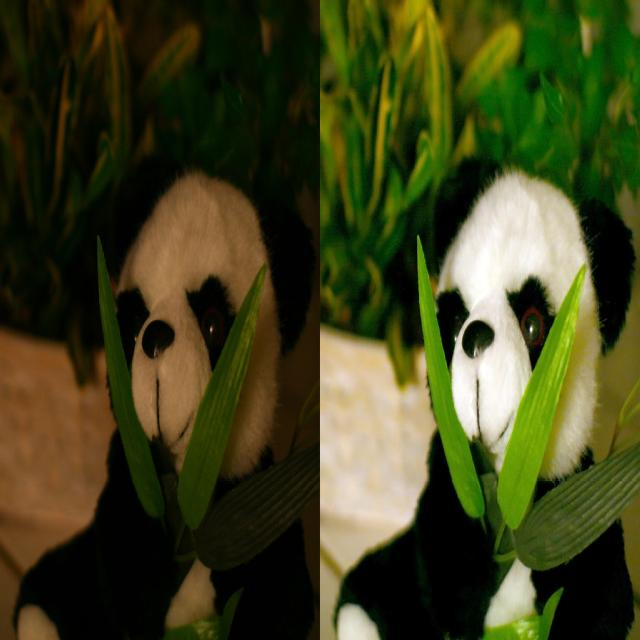panda: (330, 136, 634, 640), (11, 143, 316, 640)
